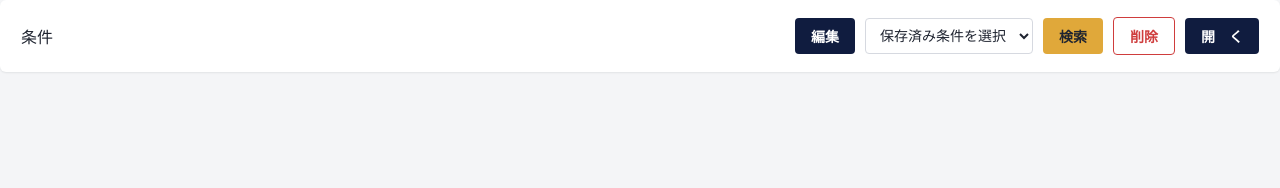
Test: ScreeningConditionPanel › toggle reads 開　く (full-width space) when collapsed and 閉じる when expanded, without arrows
Click the button named "開　く" at (1222, 36), box [1185, 18, 1259, 54]
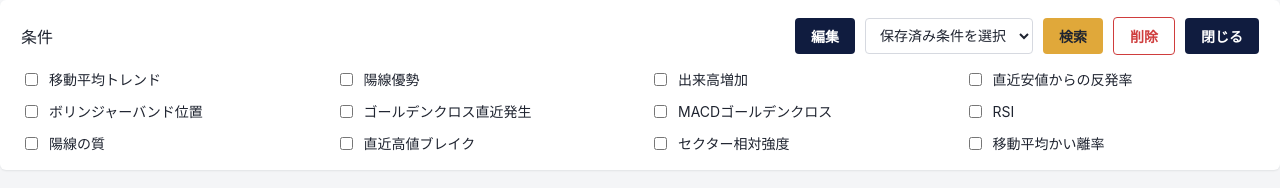
Result: the button "閉じる" is shown at [1185, 18, 1259, 54]
